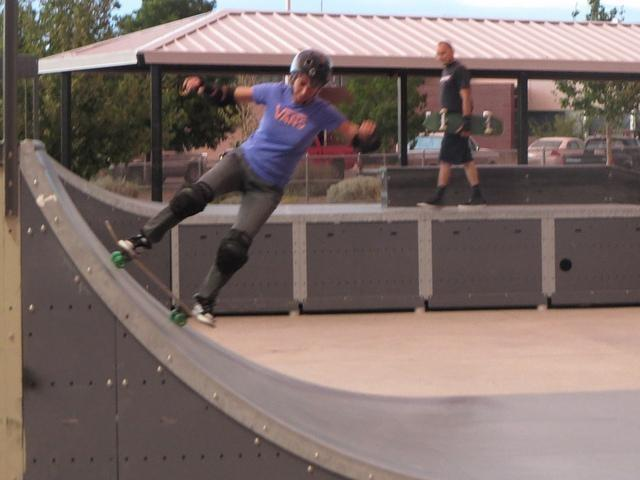car: (104, 150, 207, 186), (407, 132, 500, 165), (582, 136, 640, 171), (528, 138, 585, 166)
truck: (298, 137, 357, 178)
